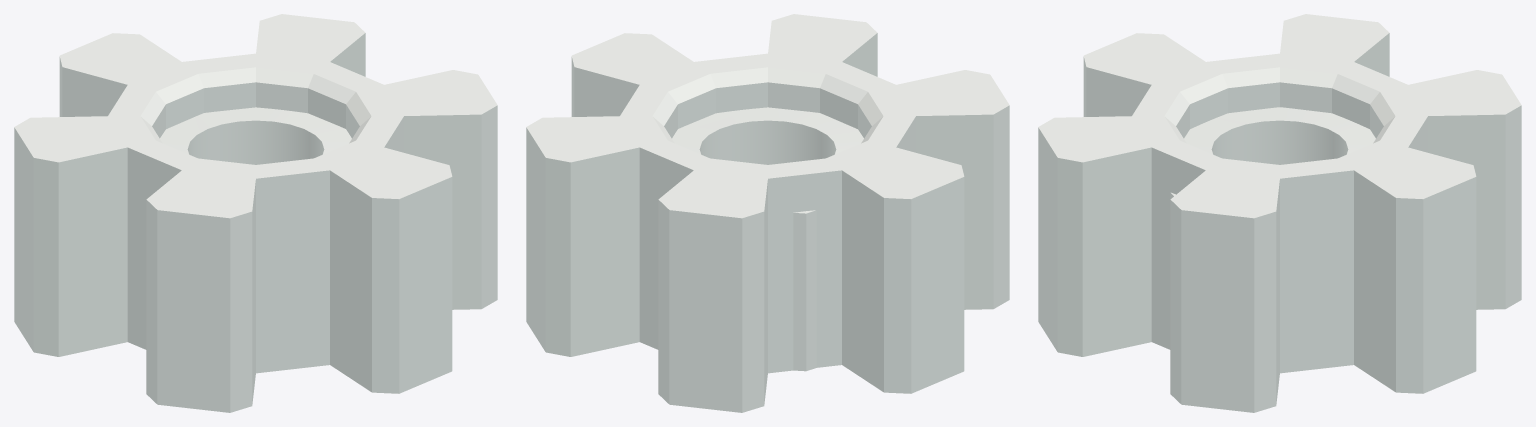
File: item_pickups.glb
The picture shows the model from 3 angles, left to right: view 1: azimuth 30°, elevation 25°; view 2: azimuth 150°, elevation 25°; view 3: azimuth 270°, elevation 25°; orthographic projection.
Visible parts, largest first — view 1: Gear, Bolt; view 2: Gear, Bolt; view 3: Gear, Bolt.
Boxes of the visible parts, x1=… form: Gear: x1=14, y1=14, x2=497, y2=412; Bolt: x1=160, y1=107, x2=351, y2=164; Gear: x1=526, y1=14, x2=1009, y2=412; Bolt: x1=672, y1=107, x2=863, y2=371; Gear: x1=1038, y1=14, x2=1521, y2=412; Bolt: x1=1170, y1=107, x2=1375, y2=199.
Bounding box in the file's own units: 3.26 × 1.5 × 3.26.
1 material, 1 textured.
